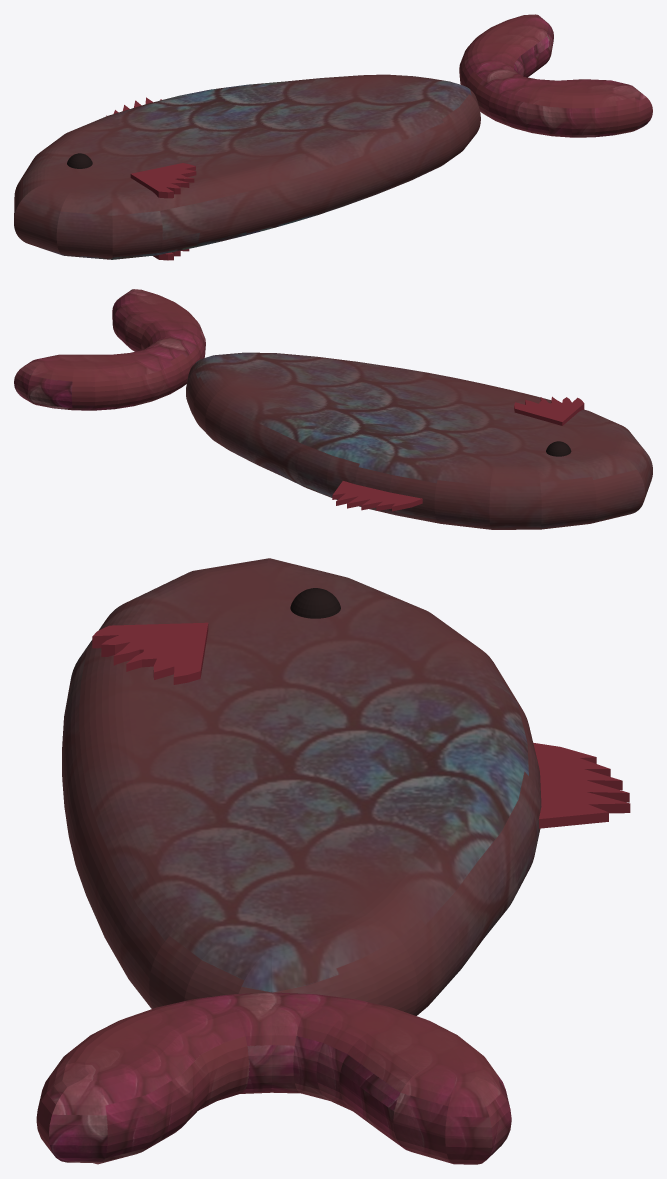
The model's file is BakedFish.fbx.
3 renders of one model, top to bottom at view 1: azimuth 30°, elevation 25°; view 2: azimuth 150°, elevation 25°; view 3: azimuth 270°, elevation 25°, orthographic. The views are drawn at different scales.
Parts seen in each view (by area): view 1: Cylinder, Cylinder.001, Cube.001; view 2: Cylinder, Cylinder.001, Cube.002, Cube.001; view 3: Cylinder, Cylinder.001, Cube.002, Cube.001, Sphere.002.
Part boxes in pixels (<box>): Cylinder: <box>14,74,480,259</box>; Cylinder.001: <box>459,14,652,137</box>; Cube.001: <box>130,163,196,198</box>; Cylinder: <box>186,352,652,529</box>; Cylinder.001: <box>14,289,205,410</box>; Cube.002: <box>332,481,422,511</box>; Cube.001: <box>514,396,584,425</box>; Cylinder: <box>62,558,541,1015</box>; Cylinder.001: <box>36,992,511,1164</box>; Cube.002: <box>533,743,630,828</box>; Cube.001: <box>92,622,208,684</box>; Sphere.002: <box>290,588,340,618</box>.
Bounding box in the file's own units: 1.01 × 0.45 × 0.1311.
Materials: 4 (2 with a texture image).
